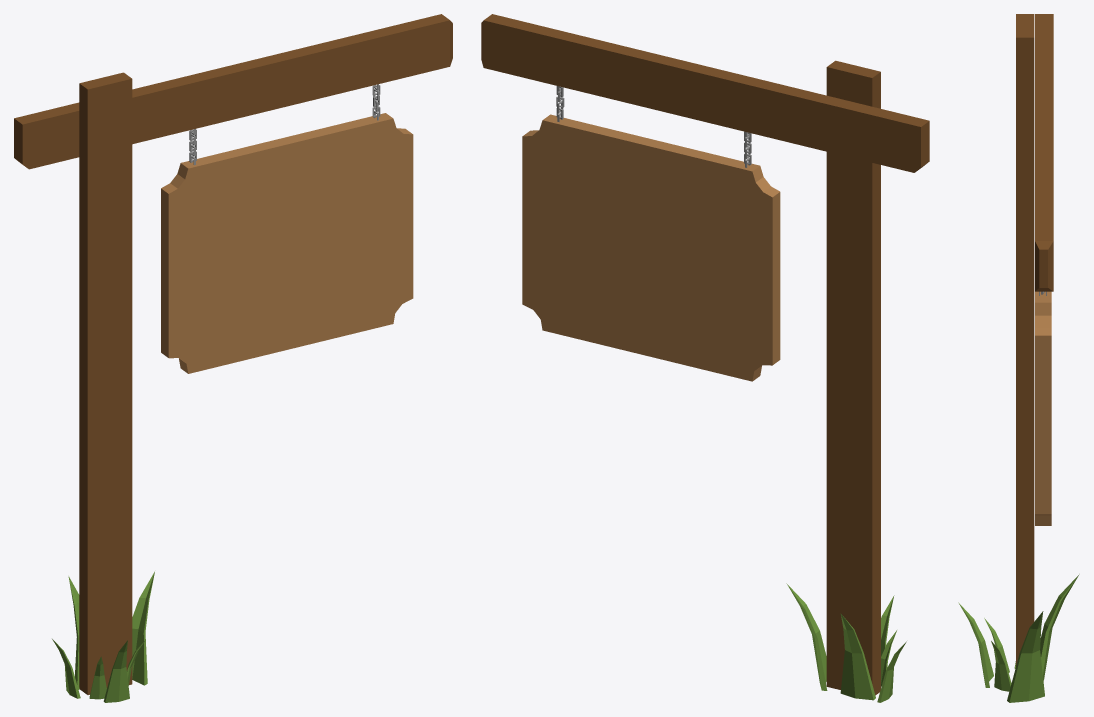
Rendered from Wooden Sign-U8DioeoNvJ.glb.
3 views of the same model, side by side, from view 1: azimuth 30°, elevation 25°; view 2: azimuth 150°, elevation 25°; view 3: azimuth 270°, elevation 25° (orthographic). The views are drawn at different scales.
Parts seen in each view (by area): view 1: Sign13; view 2: Sign13; view 3: Sign13.
Boxes of the visible parts, x1,y1,x2,y2 form: Sign13: (14, 14, 452, 702); Sign13: (481, 14, 929, 702); Sign13: (958, 14, 1079, 702).
Bounding box in the file's own units: 1.55 × 2.08 × 0.3487.
